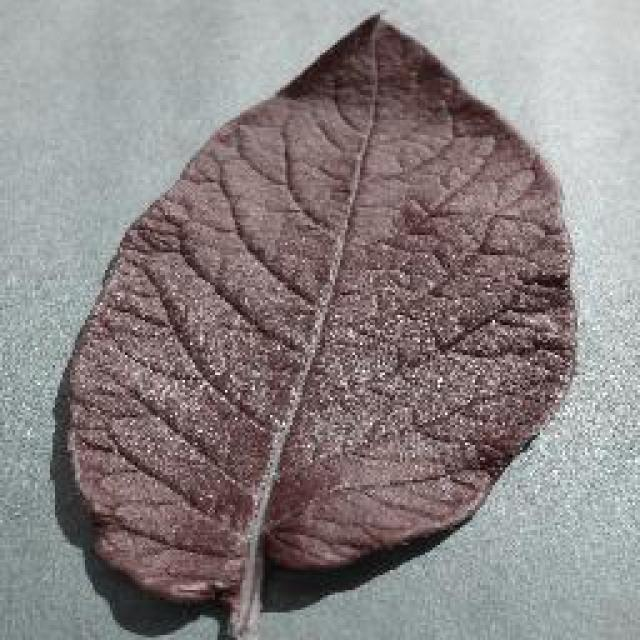Potato___healthy: (62, 10, 576, 638)
